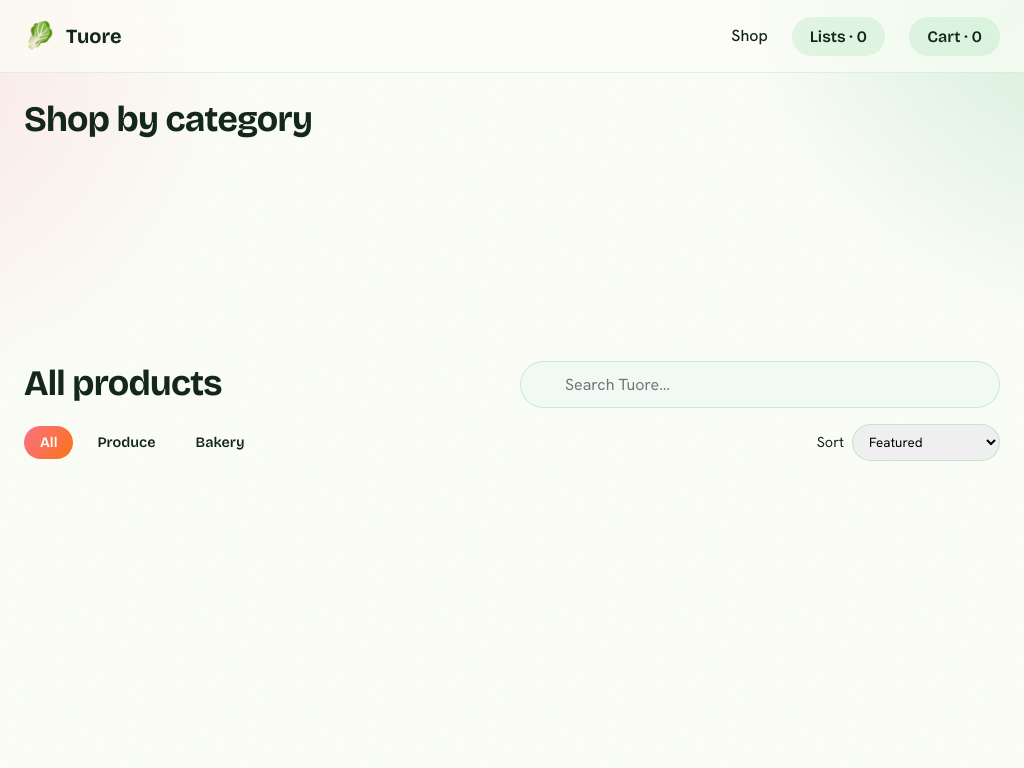
Test: SearchAutocomplete (via StoreHome) › still filters the product grid while typing (existing behaviour preserved)
(page scrolled)
In the dropdown named "Search products": (760, 384) [520,361,1000,408], type "sourdough"
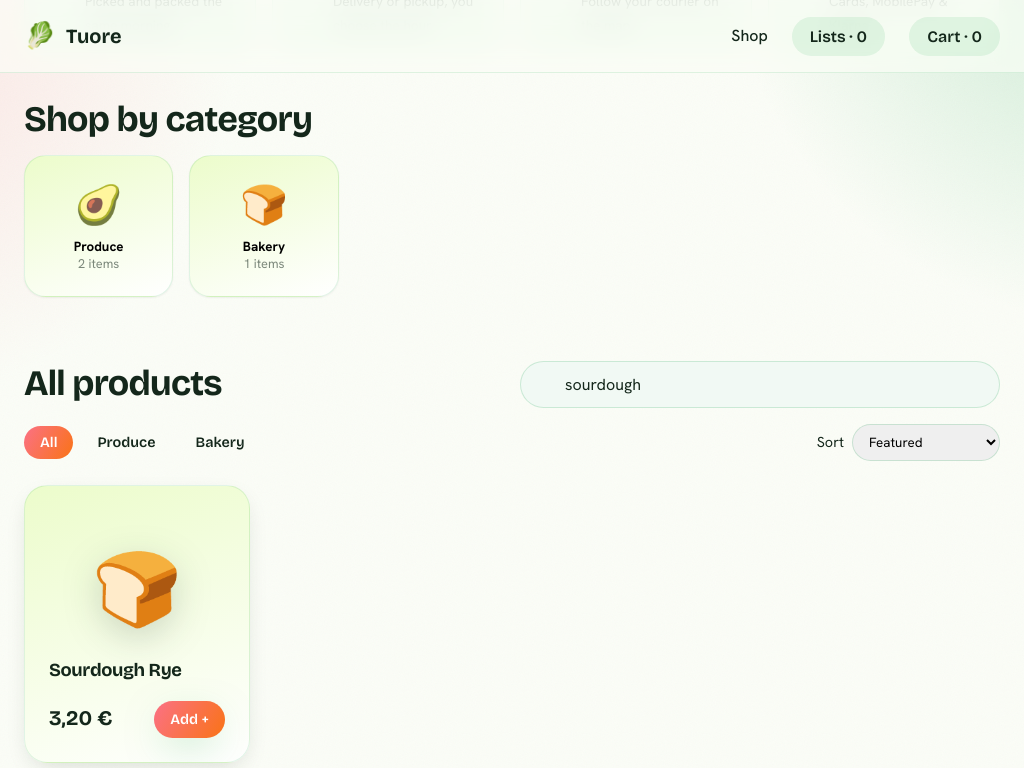
Check: the heading "Sourdough Rye" is shown, box [49,659,182,681]
